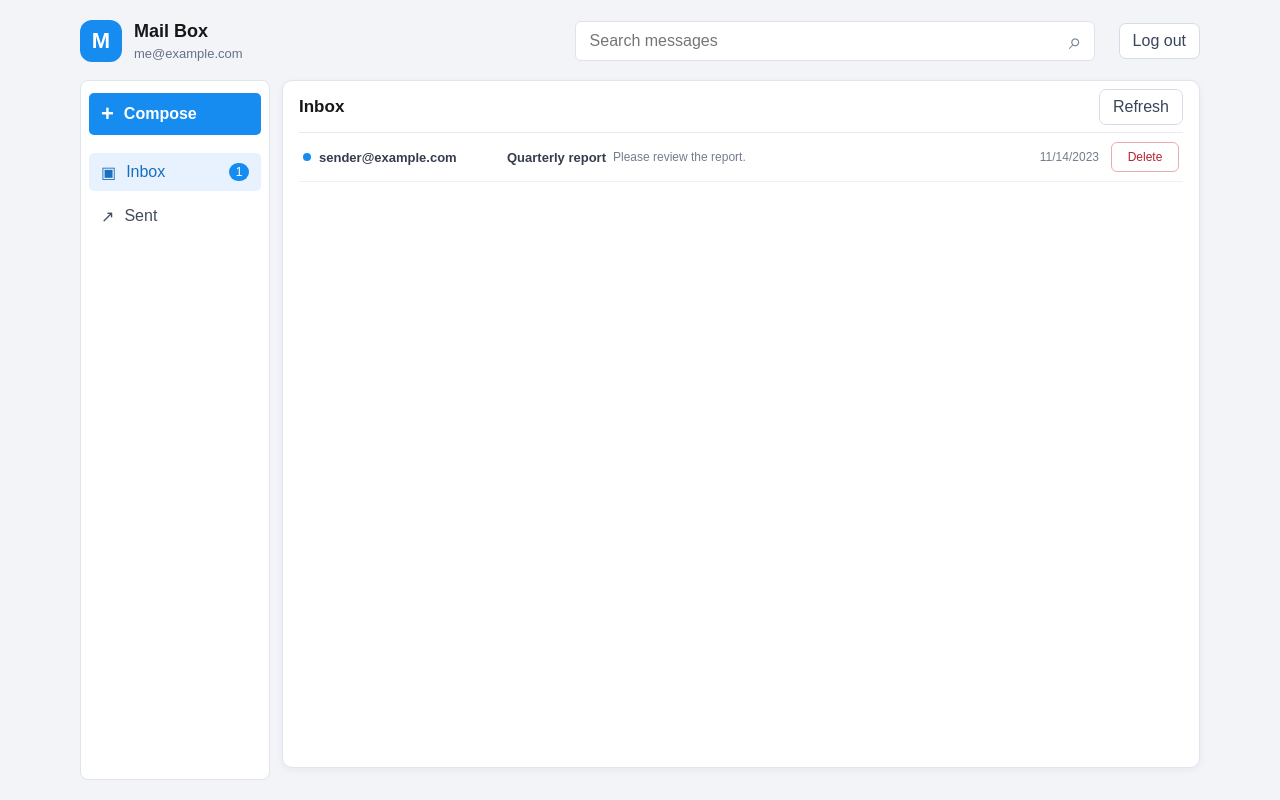
Test case: Mailbox message reader › returns from the reader to the Inbox list
Click the button that starts with "sender@example.com" at (701, 157), box [299,133,1103,181]
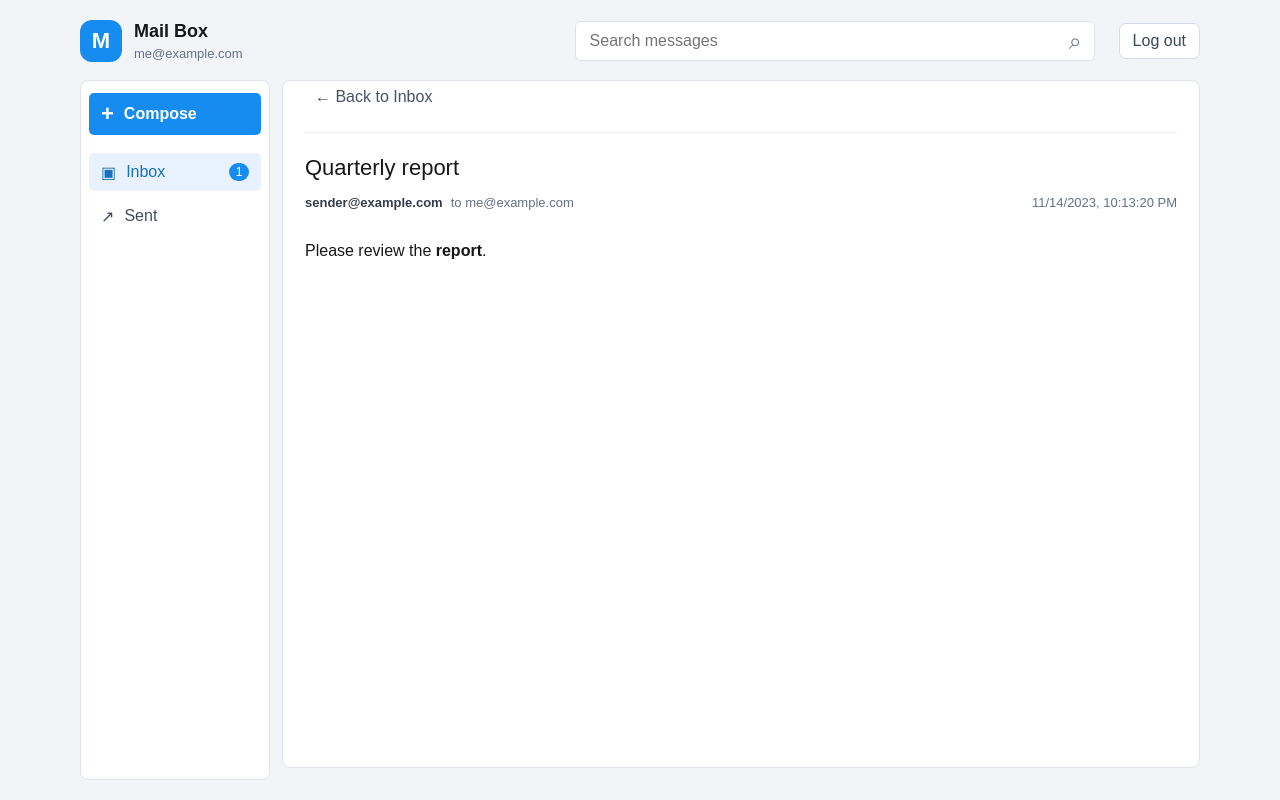
Click the button "← Back to Inbox" at (374, 97), box [305,81,442,113]
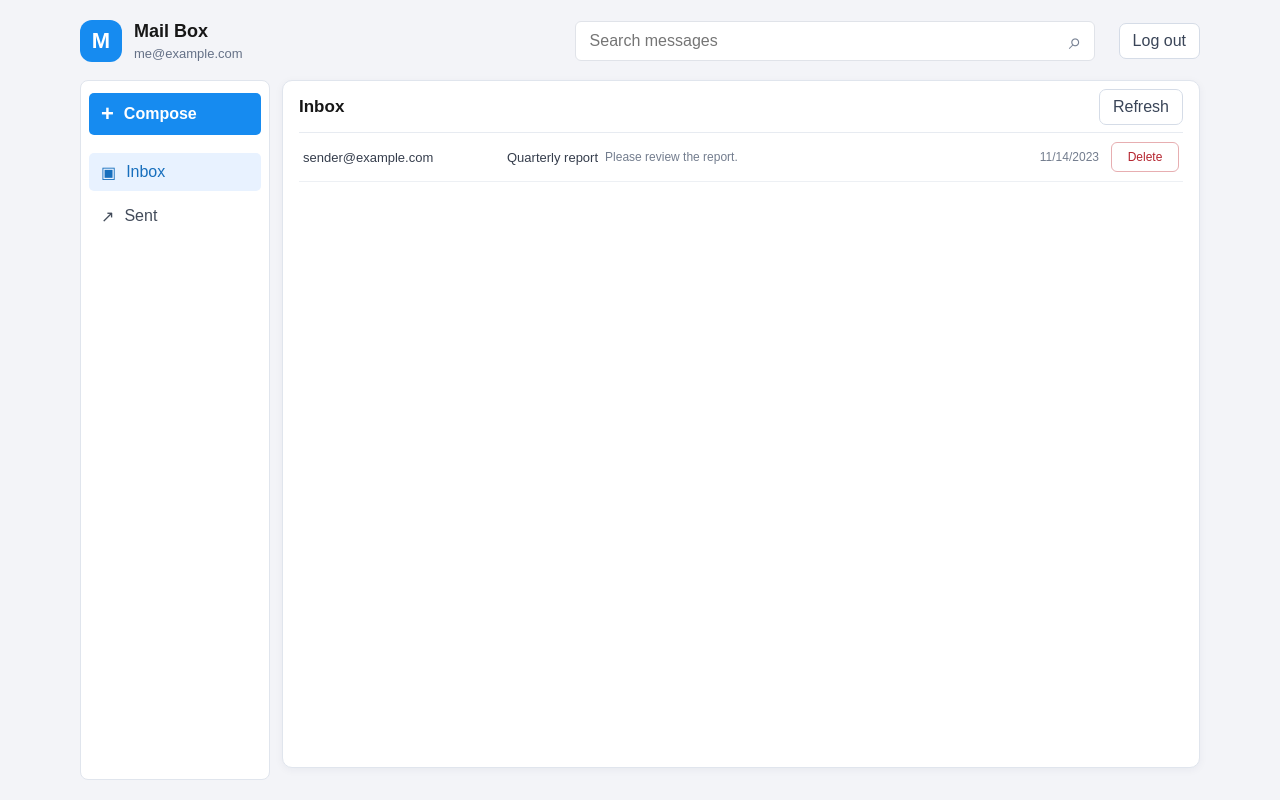
Now the heading "Inbox" is shown, box [299,96,344,116]
